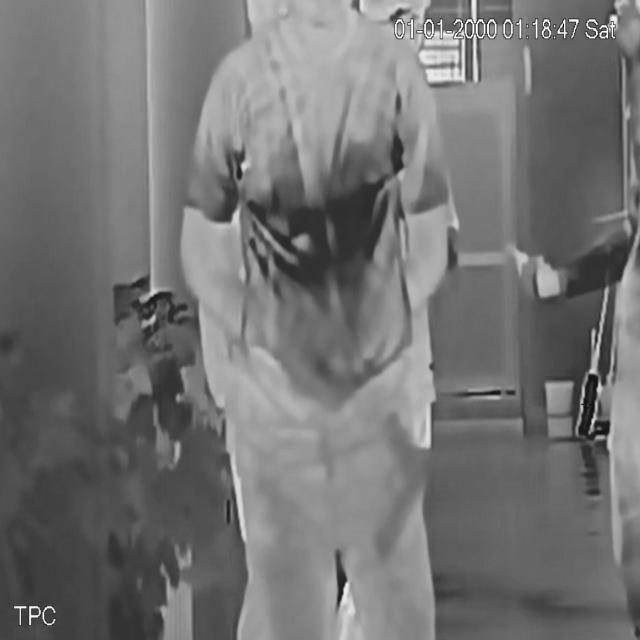Weapon: (365, 402, 436, 564)
